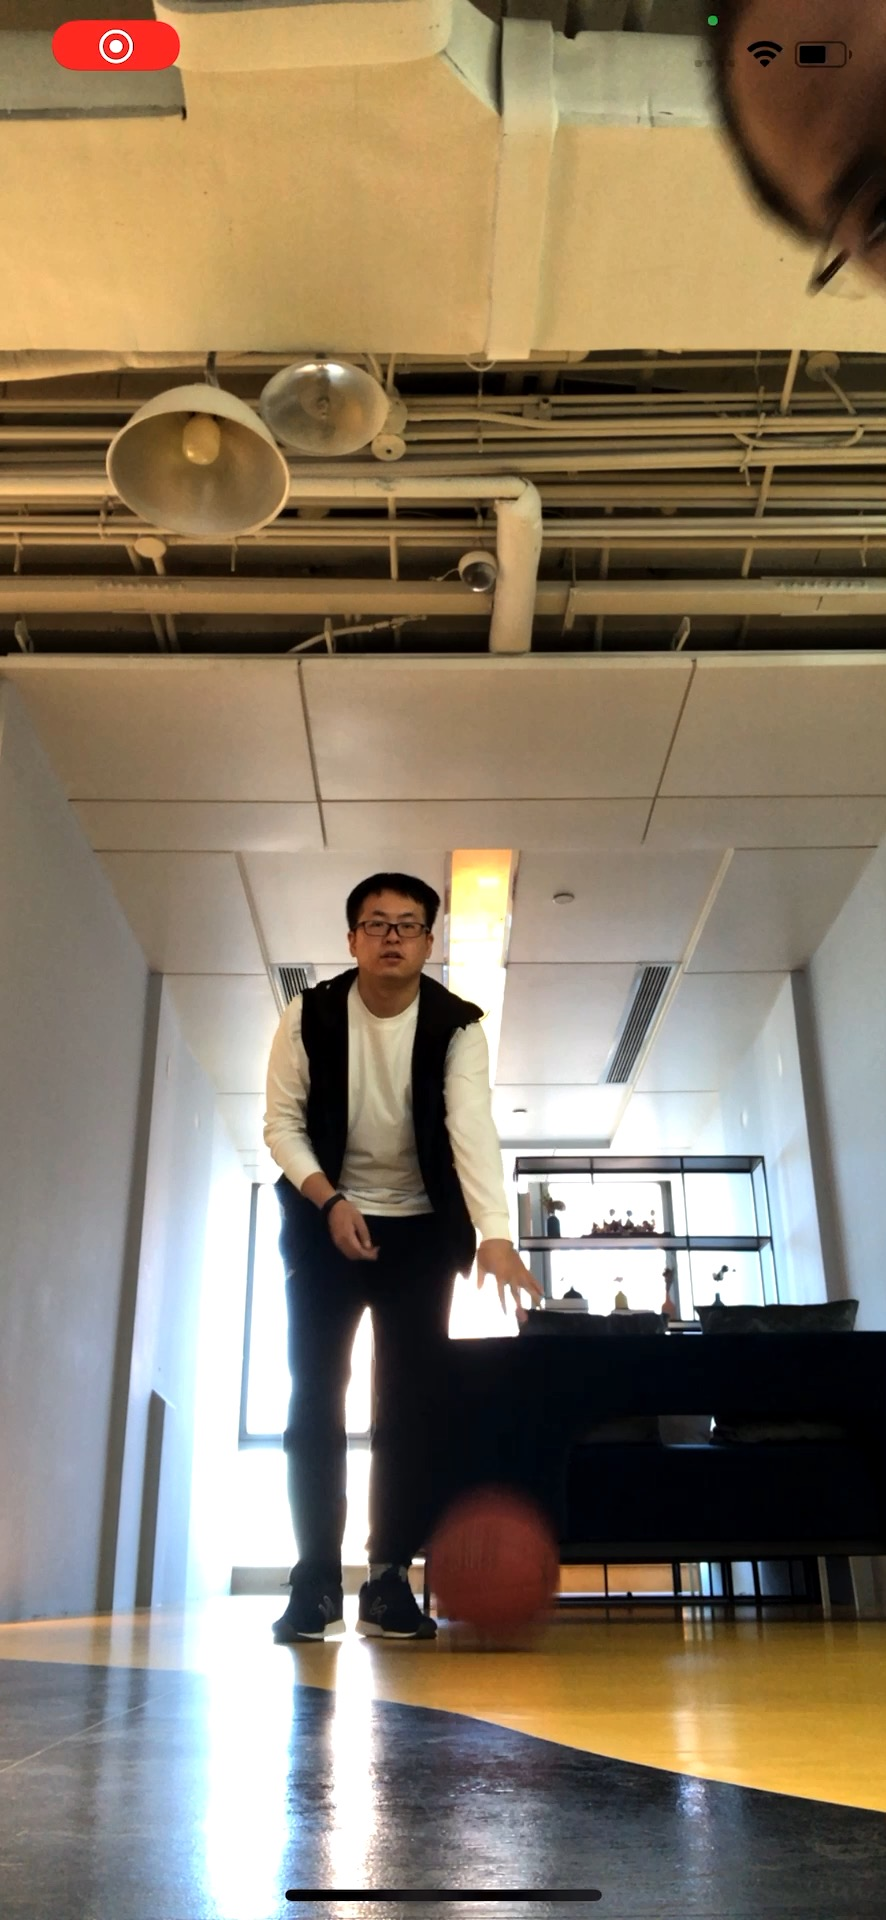ball: (431, 1506, 559, 1643)
